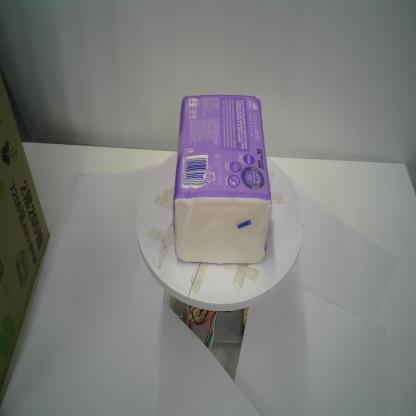Tissue: (169, 91, 274, 268)
